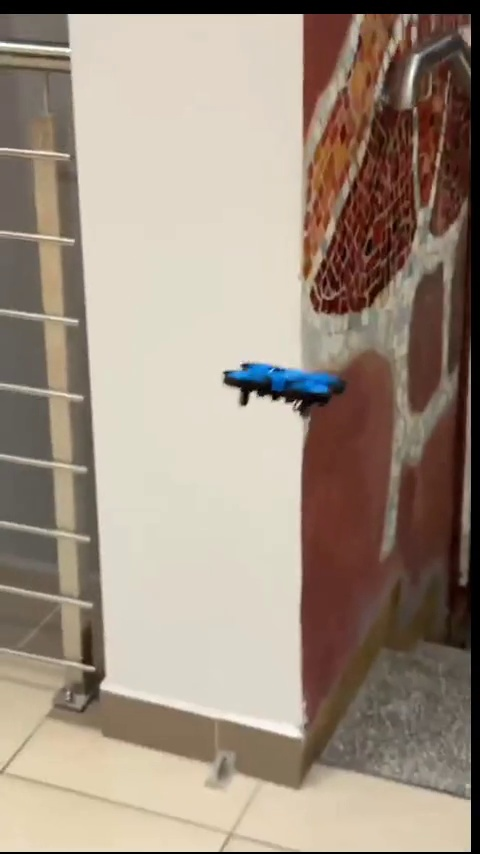drone: (225, 360, 345, 426)
